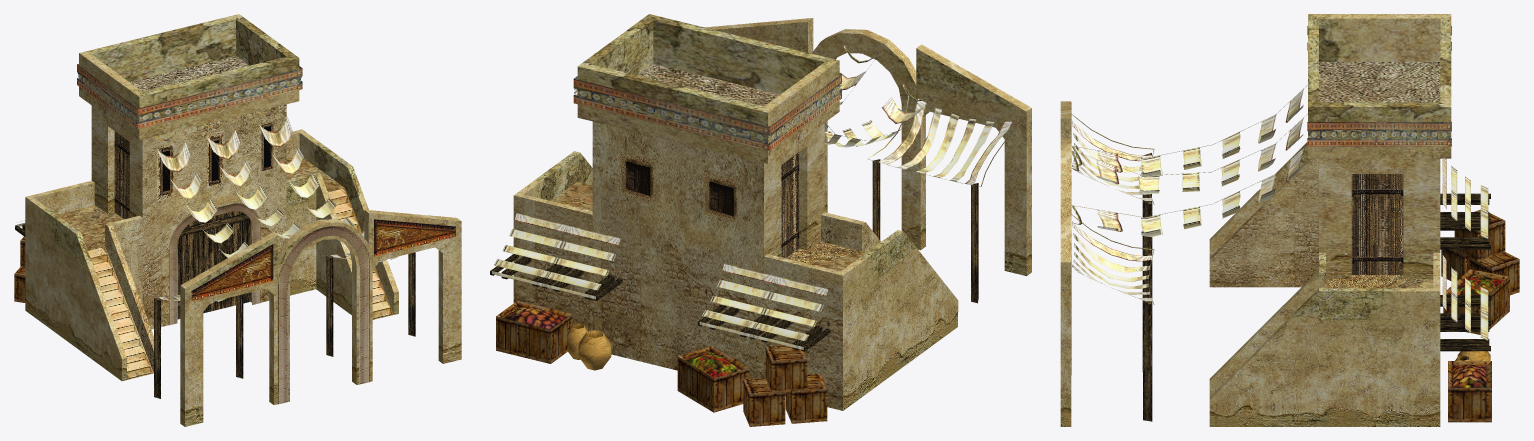
The model's file is pers_market.dae.
3 views of the same model, side by side, from view 1: azimuth 30°, elevation 25°; view 2: azimuth 150°, elevation 25°; view 3: azimuth 270°, elevation 25° (orthographic). The views are drawn at different scales.
Visible parts, largest first — view 1: Object26-Pivot; view 2: Object26-Pivot; view 3: Object26-Pivot.
Part boxes in pixels (box(x1,y1,x2,y2)): Object26-Pivot: box(14, 14, 461, 426); Object26-Pivot: box(490, 14, 1031, 426); Object26-Pivot: box(1060, 14, 1519, 426).
Size of the model in its own units: 15.84 by 19.09 by 13.1.
